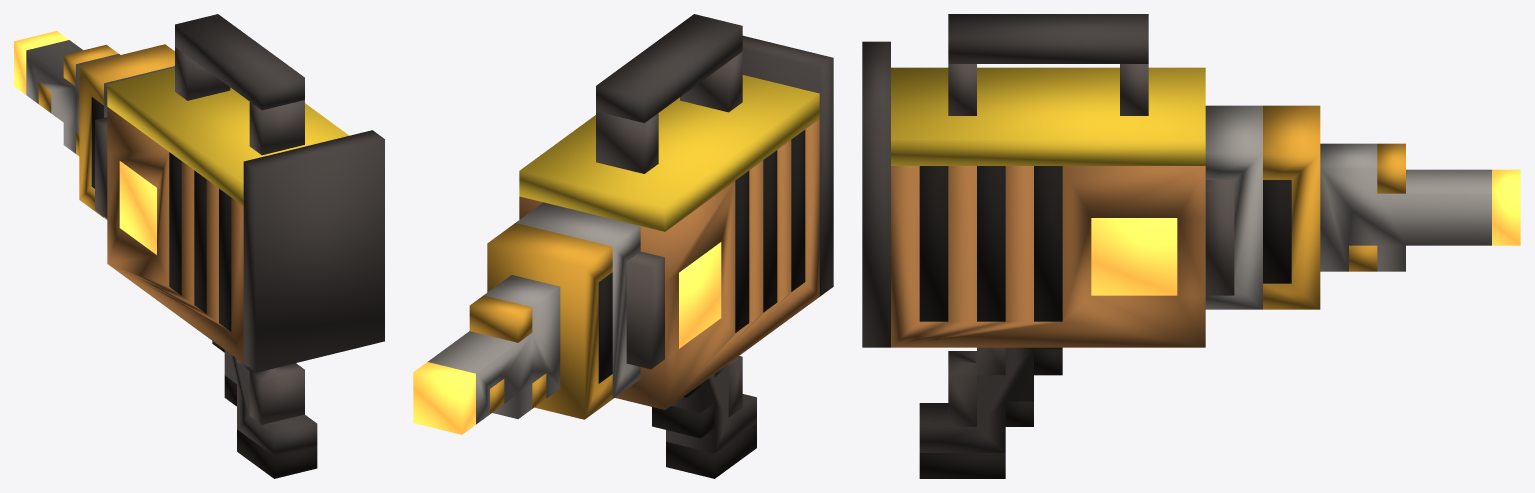
File: mining-drill.lod1.glb
3 renders of one model, left to right at view 1: azimuth 30°, elevation 25°; view 2: azimuth 150°, elevation 25°; view 3: azimuth 270°, elevation 25°, orthographic. The views are drawn at different scales.
Parts seen in each view (by area): view 1: mining-drill.body, part.bit; view 2: mining-drill.body, part.bit; view 3: mining-drill.body, part.bit.
Boxes of the visible parts, x1,y1,x2,y2 form: mining-drill.body: [95, 14, 384, 478]; part.bit: [14, 31, 174, 217]; mining-drill.body: [516, 14, 833, 478]; part.bit: [413, 223, 612, 434]; mining-drill.body: [862, 14, 1262, 478]; part.bit: [1263, 105, 1520, 309].
Bounding box in the file's own units: 0.1875 × 0.5312 × 0.7188.
